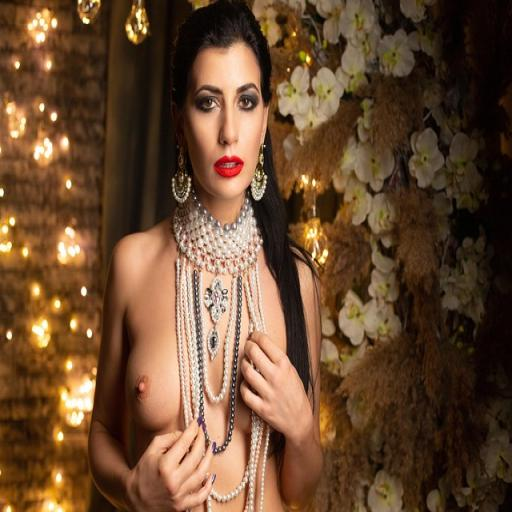lipstick: (214, 155, 243, 177)
